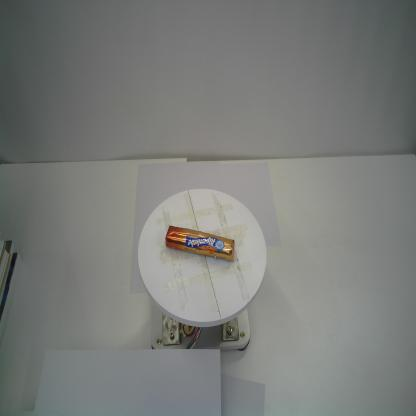Candy: (165, 225, 235, 262)
